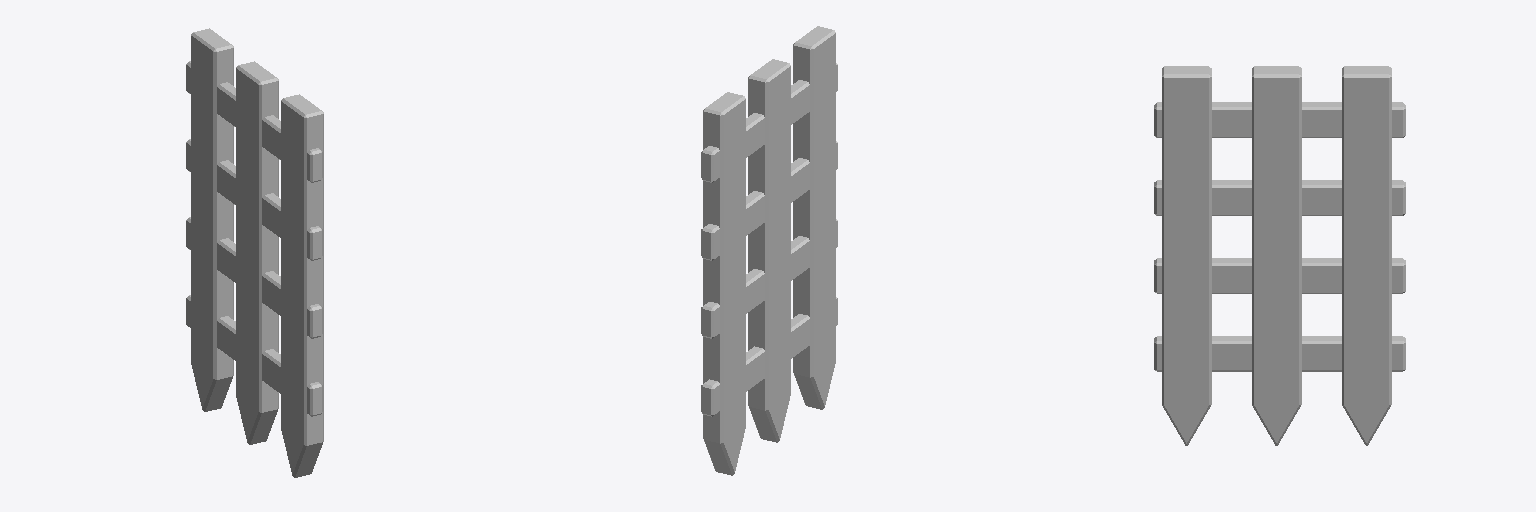
Rendered from door_grid.obj.
The picture shows the model from 3 angles: view 1: azimuth 30°, elevation 25°; view 2: azimuth 150°, elevation 25°; view 3: azimuth 270°, elevation 25°; orthographic projection.
Visible parts, largest first — view 1: door_grid; view 2: door_grid; view 3: door_grid.
Boxes of the visible parts, x1,y1,x2,y2 form: door_grid: [186, 28, 323, 477]; door_grid: [701, 26, 837, 475]; door_grid: [1154, 66, 1405, 445].
Size of the model in its own units: 0.4298 by 7.36 by 4.51.